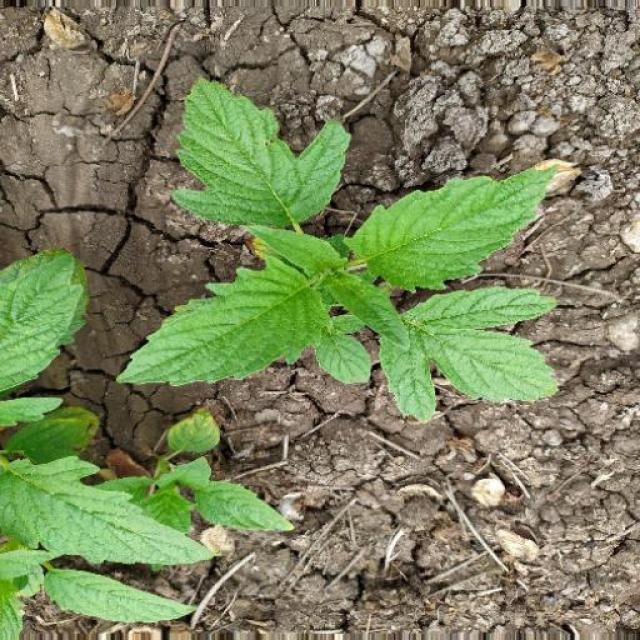crop: (114, 66, 576, 438)
